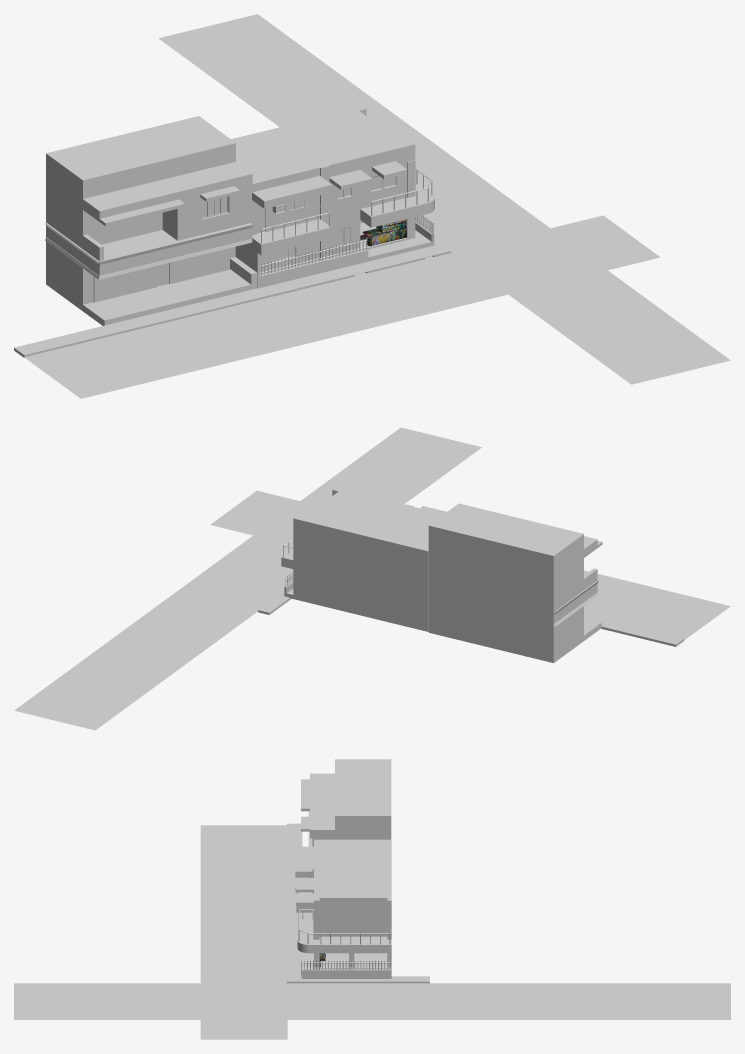
File: tindahan_blockout.glb
The picture shows the model from 3 angles, top to bottom: view 1: azimuth 30°, elevation 25°; view 2: azimuth 150°, elevation 25°; view 3: azimuth 270°, elevation 25°; orthographic projection. The views are drawn at different scales.
Parts seen in each view (by area): view 1: Road, Kapitbahay, Tindahan, Sidewalk; view 2: Road, Kapitbahay, Tindahan, Sidewalk; view 3: Road, Tindahan, Kapitbahay, Sidewalk.
Boxes of the visible parts, bbox=[...] form: Road: bbox=[24, 14, 730, 398]; Kapitbahay: bbox=[45, 116, 257, 325]; Tindahan: bbox=[231, 107, 434, 288]; Sidewalk: bbox=[14, 239, 451, 357]; Road: bbox=[14, 427, 730, 730]; Kapitbahay: bbox=[428, 503, 602, 663]; Tindahan: bbox=[281, 488, 446, 631]; Sidewalk: bbox=[258, 591, 684, 646]; Road: bbox=[14, 825, 730, 1039]; Tindahan: bbox=[295, 839, 391, 978]; Kapitbahay: bbox=[301, 759, 391, 877]; Sidewalk: bbox=[286, 823, 429, 983].
Size of the model in its own units: 51.25 by 11.16 by 72.46.
2 materials, 2 textured.
